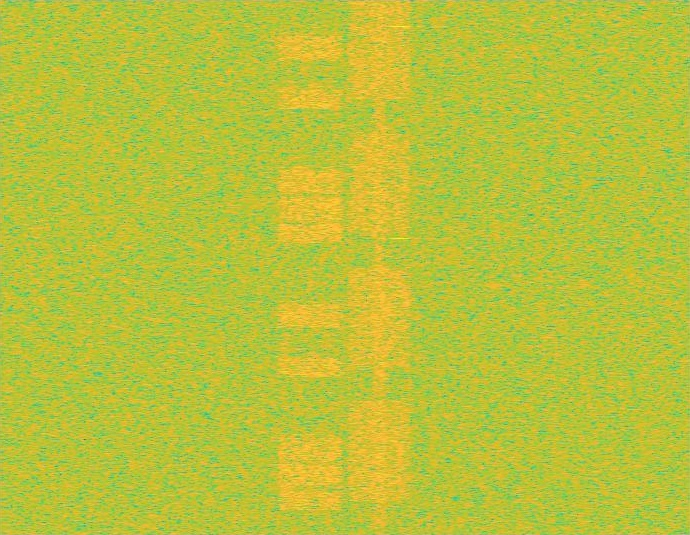5G: (345, 0, 414, 534)
DSSS: (372, 0, 387, 534)
LTE: (276, 0, 345, 534)
Radar: (393, 0, 407, 534)
